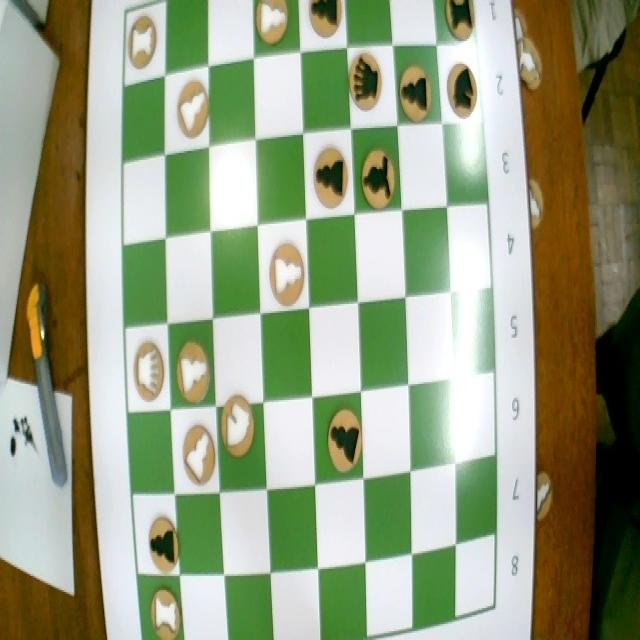chess-pieces: (174, 408, 218, 495), (166, 332, 214, 407), (123, 330, 168, 406), (354, 146, 398, 218), (137, 503, 180, 576), (309, 136, 347, 218), (324, 400, 366, 474), (216, 390, 255, 469), (344, 44, 388, 114), (173, 74, 213, 147), (263, 236, 307, 300), (139, 578, 182, 640), (396, 58, 430, 136), (443, 60, 478, 128), (248, 0, 295, 49), (125, 12, 160, 71), (302, 0, 344, 41), (441, 0, 478, 41)
